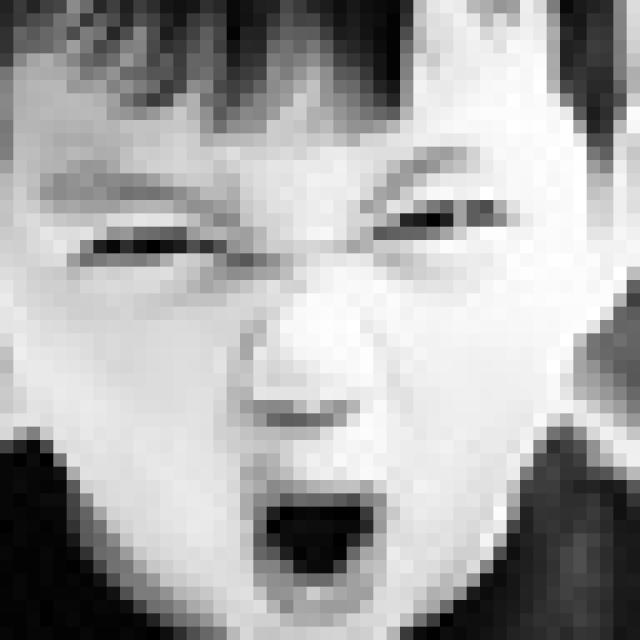angry: (42, 143, 521, 630)
